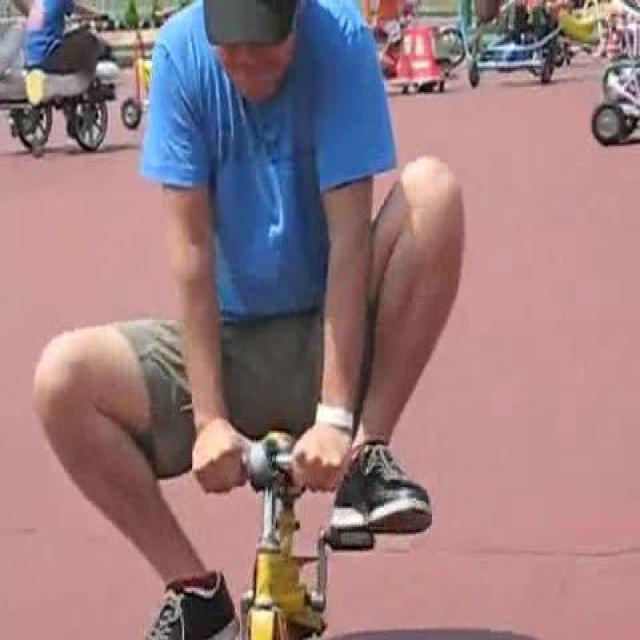other: (191, 447, 341, 627)
